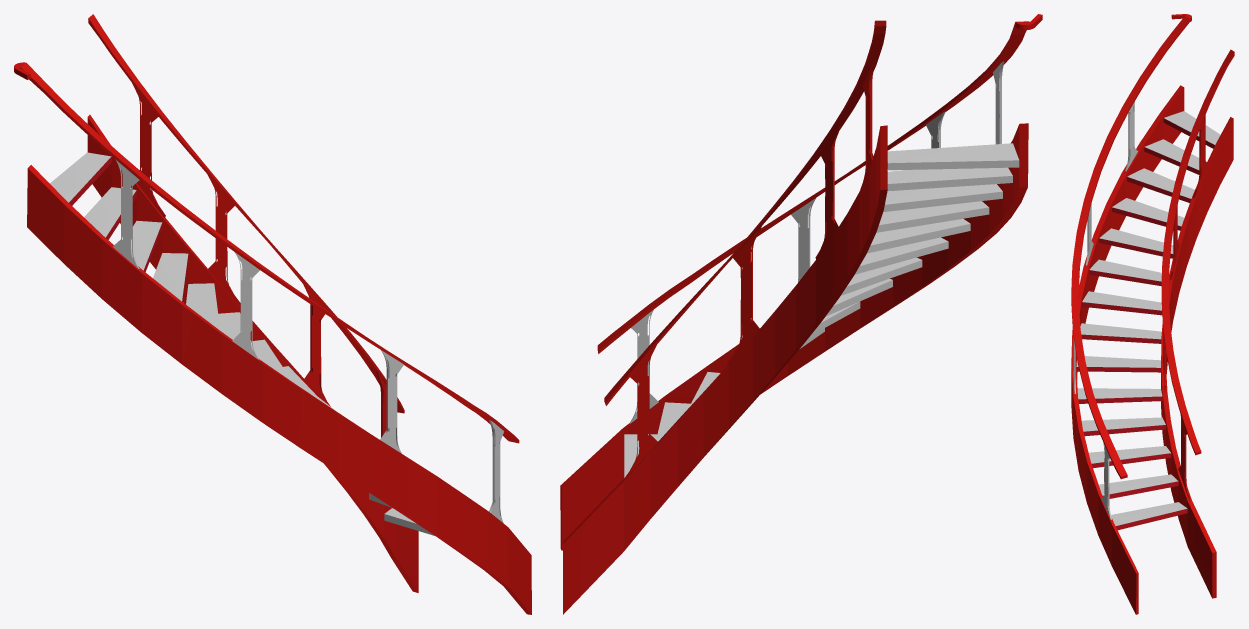
The model's file is StairsFinal_SP_FBX.fbx.
The picture shows the model from 3 angles, left to right: view 1: azimuth 30°, elevation 25°; view 2: azimuth 150°, elevation 25°; view 3: azimuth 270°, elevation 25°; orthographic projection. The views are drawn at different scales.
Visible parts, largest first — view 1: right2_GateRoom_newstairshalfcircle.001, GateRoom_newstairshalfcircle_9.003_GateRoom_newstairshalfci., right_GateRoom_newstairshalfcircle.005, Rail_MexhLine.001_CUGateRoom_newstairshalfcircle_9.002, Rail_MexhLineConvertedToMEchData_CUGateRoom_newstairshalfcir, ColumVertCurve.000_CUBezierCurve.001, ColumVertCurve.008_CUBezierCurve.029, ColumVertCurve.009_CUBezierCurve.030, ColumVertCurve.000_CUBezierCurve.002, ColumVertCurve.000_CUBezierCurve.000, ColumVertCurve.007_CUBezierCurve.028, ColumVertCurve.005_CUBezierCurve.026; view 2: right_GateRoom_newstairshalfcircle.005, GateRoom_newstairshalfcircle_9.003_GateRoom_newstairshalfci., right2_GateRoom_newstairshalfcircle.001, Rail_MexhLine.001_CUGateRoom_newstairshalfcircle_9.002, Rail_MexhLineConvertedToMEchData_CUGateRoom_newstairshalfcir, ColumVertCurve.000_CUBezierCurve.000, ColumVertCurve.000_CUBezierCurve.027, ColumVertCurve.000_CUBezierCurve.001, ColumVertCurve.007_CUBezierCurve.028, ColumVertCurve.000_CUBezierCurve.002, ColumVertCurve.005_CUBezierCurve.026; view 3: GateRoom_newstairshalfcircle_9.003_GateRoom_newstairshalfci., right2_GateRoom_newstairshalfcircle.001, right_GateRoom_newstairshalfcircle.005, StairsFinal_SP_FrontPanels.001, Rail_MexhLine.001_CUGateRoom_newstairshalfcircle_9.002, Rail_MexhLineConvertedToMEchData_CUGateRoom_newstairshalfcir, ColumVertCurve.000_CUBezierCurve.002, ColumVertCurve.009_CUBezierCurve.030, ColumVertCurve.000_CUBezierCurve.027, ColumVertCurve.005_CUBezierCurve.026, ColumVertCurve.000_CUBezierCurve.001, ColumVertCurve.008_CUBezierCurve.029.
Boxes of the visible parts, <box> form: right2_GateRoom_newstairshalfcircle.001: <box>27,165,531,614</box>; GateRoom_newstairshalfcircle_9.003_GateRoom_newstairshalfci.: <box>50,152,434,535</box>; right_GateRoom_newstairshalfcircle.005: <box>87,114,418,592</box>; Rail_MexhLine.001_CUGateRoom_newstairshalfcircle_9.002: <box>14,62,519,443</box>; Rail_MexhLineConvertedToMEchData_CUGateRoom_newstairshalfcir: <box>88,14,404,413</box>; ColumVertCurve.000_CUBezierCurve.001: <box>207,174,240,306</box>; ColumVertCurve.008_CUBezierCurve.029: <box>232,252,259,359</box>; ColumVertCurve.009_CUBezierCurve.030: <box>113,159,139,268</box>; ColumVertCurve.000_CUBezierCurve.002: <box>132,83,165,217</box>; ColumVertCurve.000_CUBezierCurve.000: <box>302,282,330,406</box>; ColumVertCurve.007_CUBezierCurve.028: <box>380,350,403,453</box>; ColumVertCurve.005_CUBezierCurve.026: <box>489,420,503,522</box>; right_GateRoom_newstairshalfcircle.005: <box>563,125,887,614</box>; GateRoom_newstairshalfcircle_9.003_GateRoom_newstairshalfci.: <box>624,143,1019,477</box>; right2_GateRoom_newstairshalfcircle.001: <box>560,123,1028,550</box>; Rail_MexhLine.001_CUGateRoom_newstairshalfcircle_9.002: <box>597,14,1042,353</box>; Rail_MexhLineConvertedToMEchData_CUGateRoom_newstairshalfcir: <box>604,20,886,405</box>; ColumVertCurve.000_CUBezierCurve.000: <box>727,226,761,364</box>; ColumVertCurve.000_CUBezierCurve.027: <box>622,345,657,480</box>; ColumVertCurve.000_CUBezierCurve.001: <box>815,125,840,259</box>; ColumVertCurve.007_CUBezierCurve.028: <box>791,198,815,282</box>; ColumVertCurve.000_CUBezierCurve.002: <box>860,60,875,189</box>; ColumVertCurve.005_CUBezierCurve.026: <box>629,309,658,423</box>; GateRoom_newstairshalfcircle_9.003_GateRoom_newstairshalfci.: <box>1076,111,1220,525</box>; right2_GateRoom_newstairshalfcircle.001: <box>1071,85,1184,614</box>; right_GateRoom_newstairshalfcircle.005: <box>1161,117,1233,598</box>; StairsFinal_SP_FrontPanels.001: <box>1076,118,1214,530</box>; Rail_MexhLine.001_CUGateRoom_newstairshalfcircle_9.002: <box>1071,14,1191,479</box>; Rail_MexhLineConvertedToMEchData_CUGateRoom_newstairshalfcir: <box>1161,49,1234,455</box>; ColumVertCurve.000_CUBezierCurve.002: <box>1193,115,1208,198</box>; ColumVertCurve.009_CUBezierCurve.030: <box>1125,101,1138,171</box>; ColumVertCurve.000_CUBezierCurve.027: <box>1178,413,1190,501</box>; ColumVertCurve.005_CUBezierCurve.026: <box>1101,442,1111,519</box>; ColumVertCurve.000_CUBezierCurve.001: <box>1170,206,1179,280</box>; ColumVertCurve.008_CUBezierCurve.029: <box>1086,203,1093,265</box>.
Size of the model in its own units: 727 by 928 by 311.
